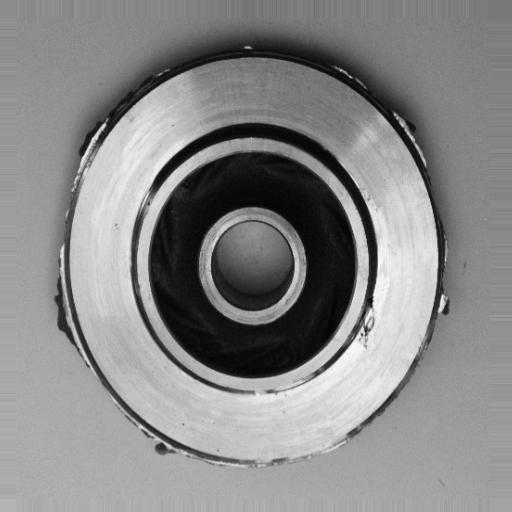casting_with_burr: (50, 35, 459, 470)
crack: (347, 295, 388, 357)
scratch: (243, 436, 360, 486), (230, 372, 324, 411), (130, 178, 165, 235)
